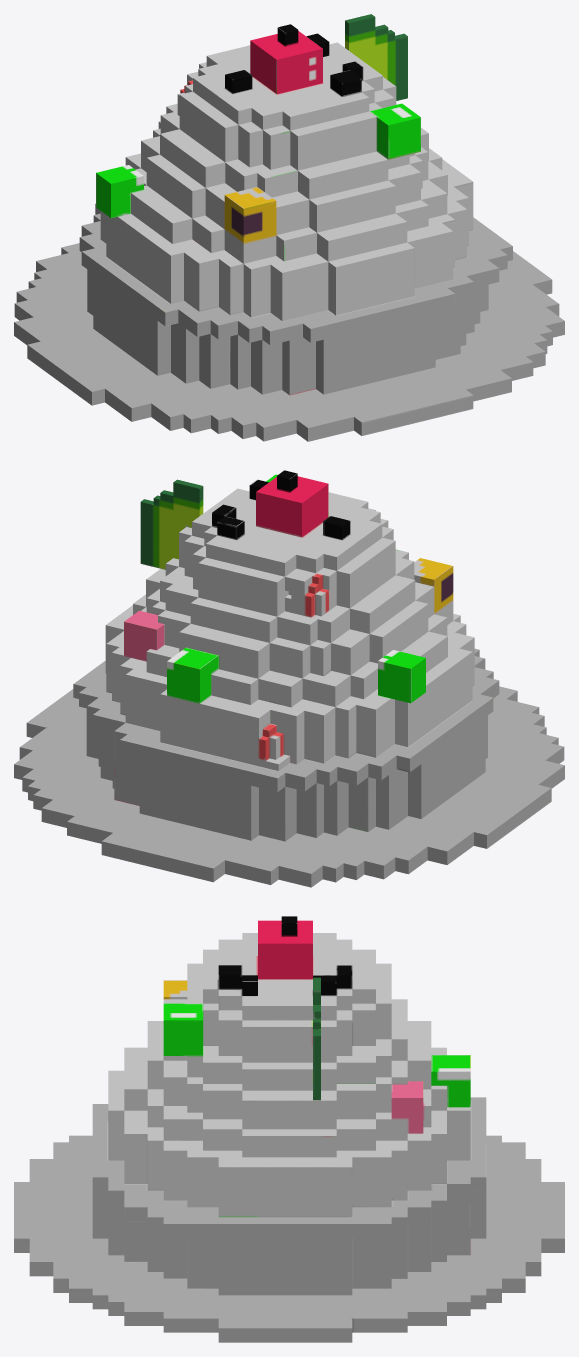
File: shirokuma-ice.glb
3 views of the same model, one above another, from view 1: azimuth 30°, elevation 25°; view 2: azimuth 150°, elevation 25°; view 3: azimuth 270°, elevation 25° (orthographic). The views are drawn at different scales.
Visible parts, largest first — view 1: shirokuma-ice; view 2: shirokuma-ice; view 3: shirokuma-ice.
Boxes of the visible parts, x1=… form: shirokuma-ice: x1=14, y1=14, x2=564, y2=441; shirokuma-ice: x1=14, y1=470, x2=564, y2=887; shirokuma-ice: x1=14, y1=916, x2=564, y2=1342.
Size of the model in its own units: 1.4 by 0.86 by 1.4.
Materials: 1 (1 with a texture image).
